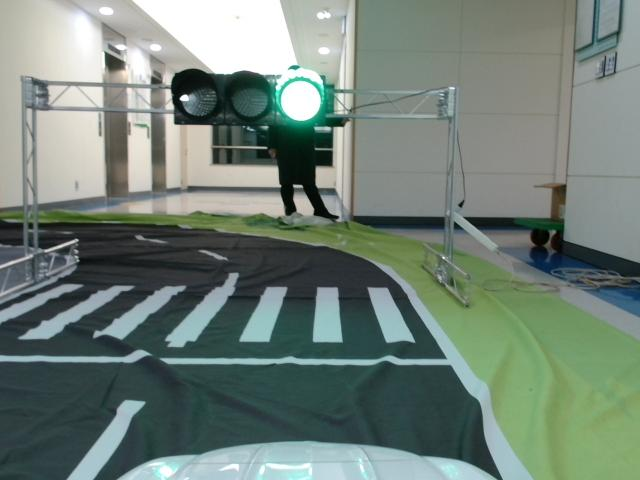crosswalk: (1, 281, 417, 344)
traffic light-green-: (172, 68, 326, 126)
